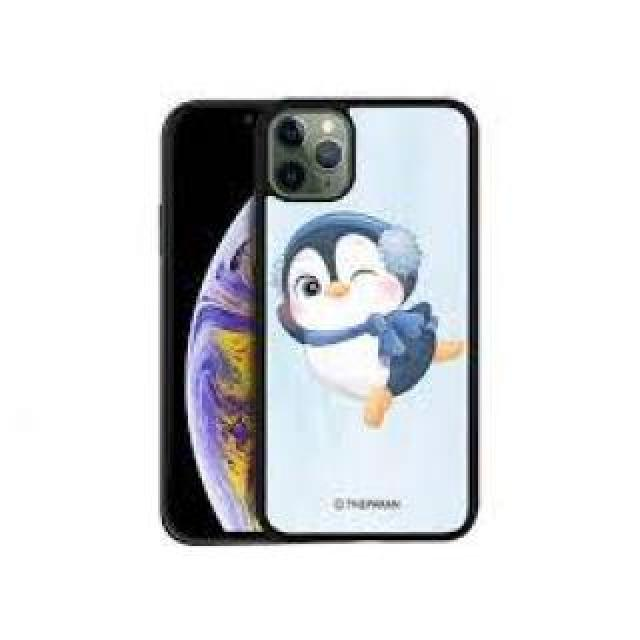smart phone: (255, 72, 532, 558)
